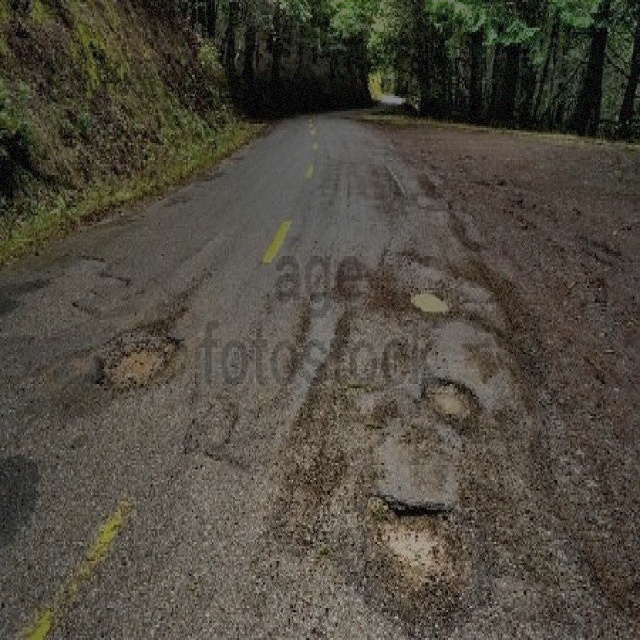pothole: (367, 493, 461, 582), (89, 328, 185, 392), (421, 374, 479, 436), (407, 286, 455, 318)
